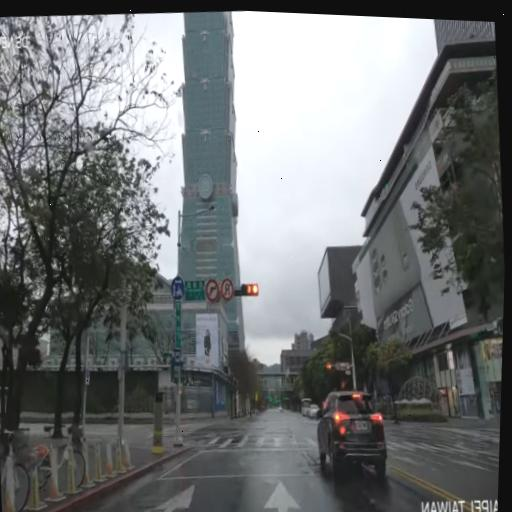Car: (311, 384, 392, 486), (300, 395, 314, 417), (308, 401, 323, 420)
